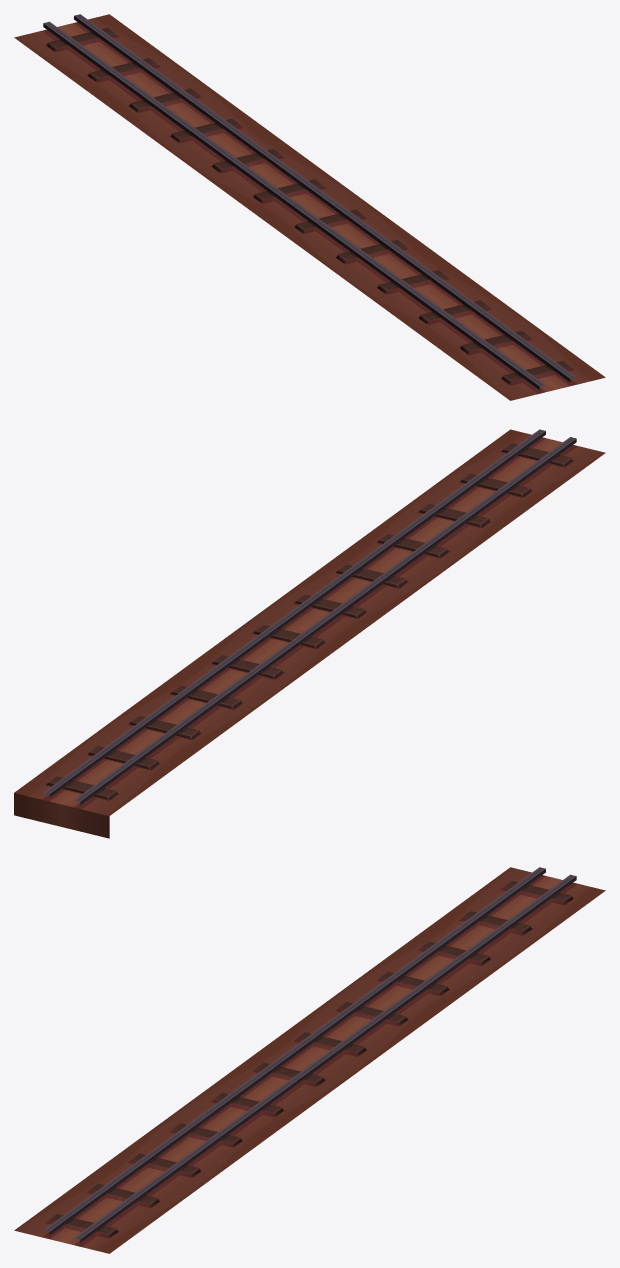
The model's file is 1.100_SanFrancisco_track_shadow_mid.glb.
3 renders of one model, top to bottom at view 1: azimuth 30°, elevation 25°; view 2: azimuth 150°, elevation 25°; view 3: azimuth 330°, elevation 25°, orthographic.
Parts seen in each view (by area): view 1: 1.100_SanFrancisco_track_shadow_mid; view 2: 1.100_SanFrancisco_track_shadow_mid; view 3: 1.100_SanFrancisco_track_shadow_mid.
Part boxes in pixels (x1,y1,x2,y2): 1.100_SanFrancisco_track_shadow_mid: (14, 14, 605, 400); 1.100_SanFrancisco_track_shadow_mid: (14, 429, 605, 838); 1.100_SanFrancisco_track_shadow_mid: (14, 867, 605, 1253).
Size of the model in its own units: 20 by 5.96 by 180.
2 materials, 2 textured.
